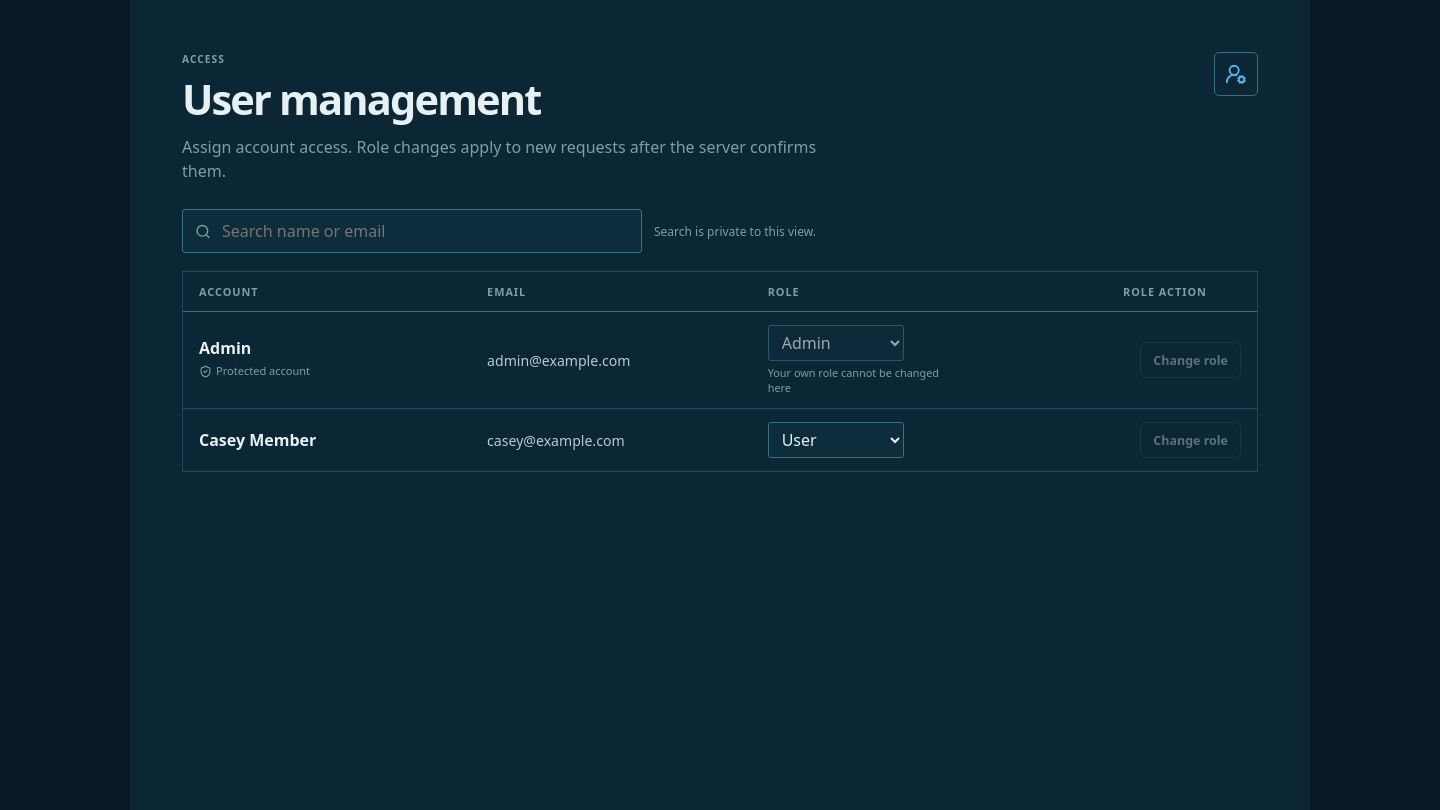
Test: UserManagementView › keeps a failed role change in the confirmation so it can be retried
Expected: the text "Casey Member" is shown, [199,429,316,451]
Select "Admin" in the dropdown named "Role for casey@example.com" at x=836, y=440, box [768,422,904,458]
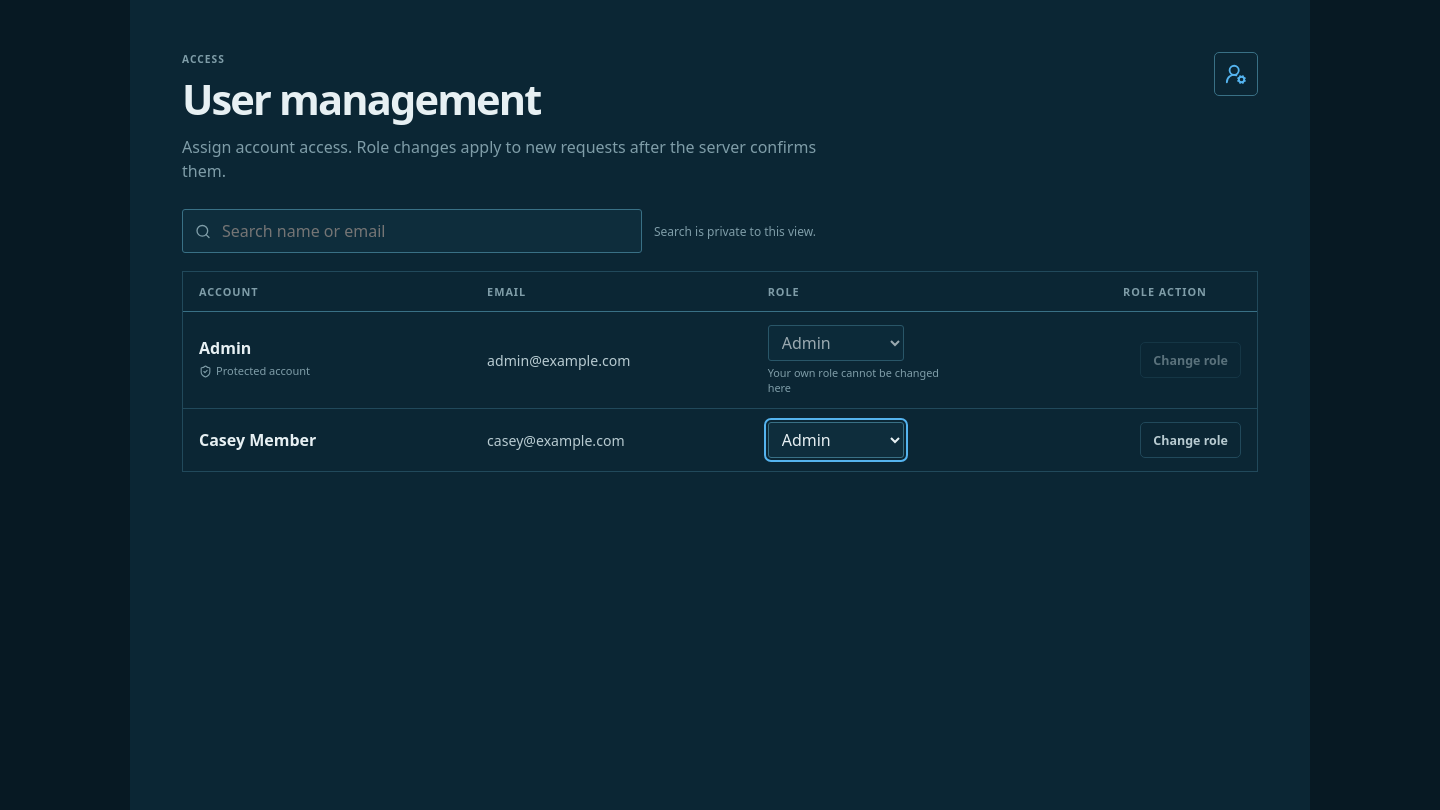
Click the button "Change role" in the row of "Casey Member" at x=1191, y=440, box [1140,422,1241,458]
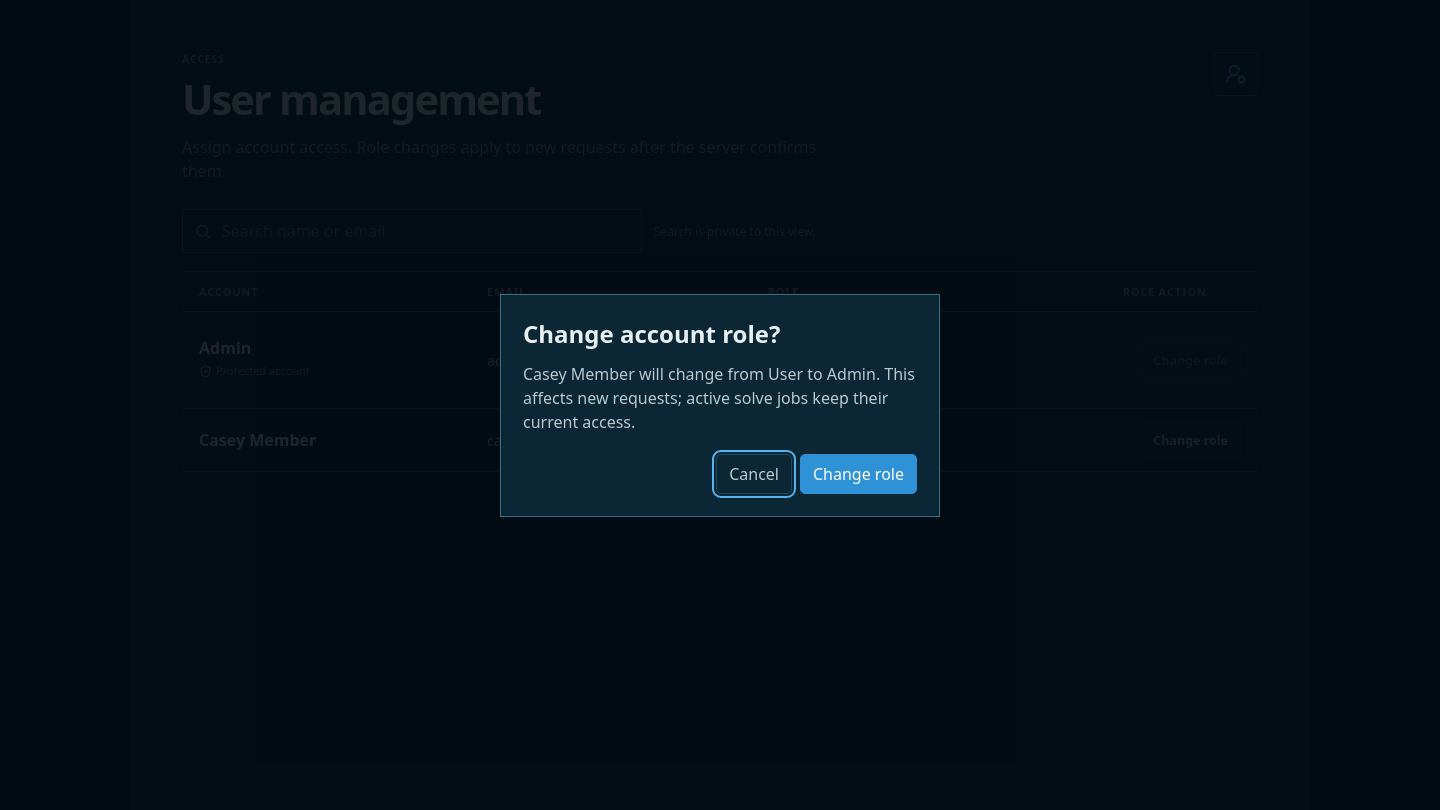
Click the button "Change role" at x=858, y=474, box [800,454,917,494]
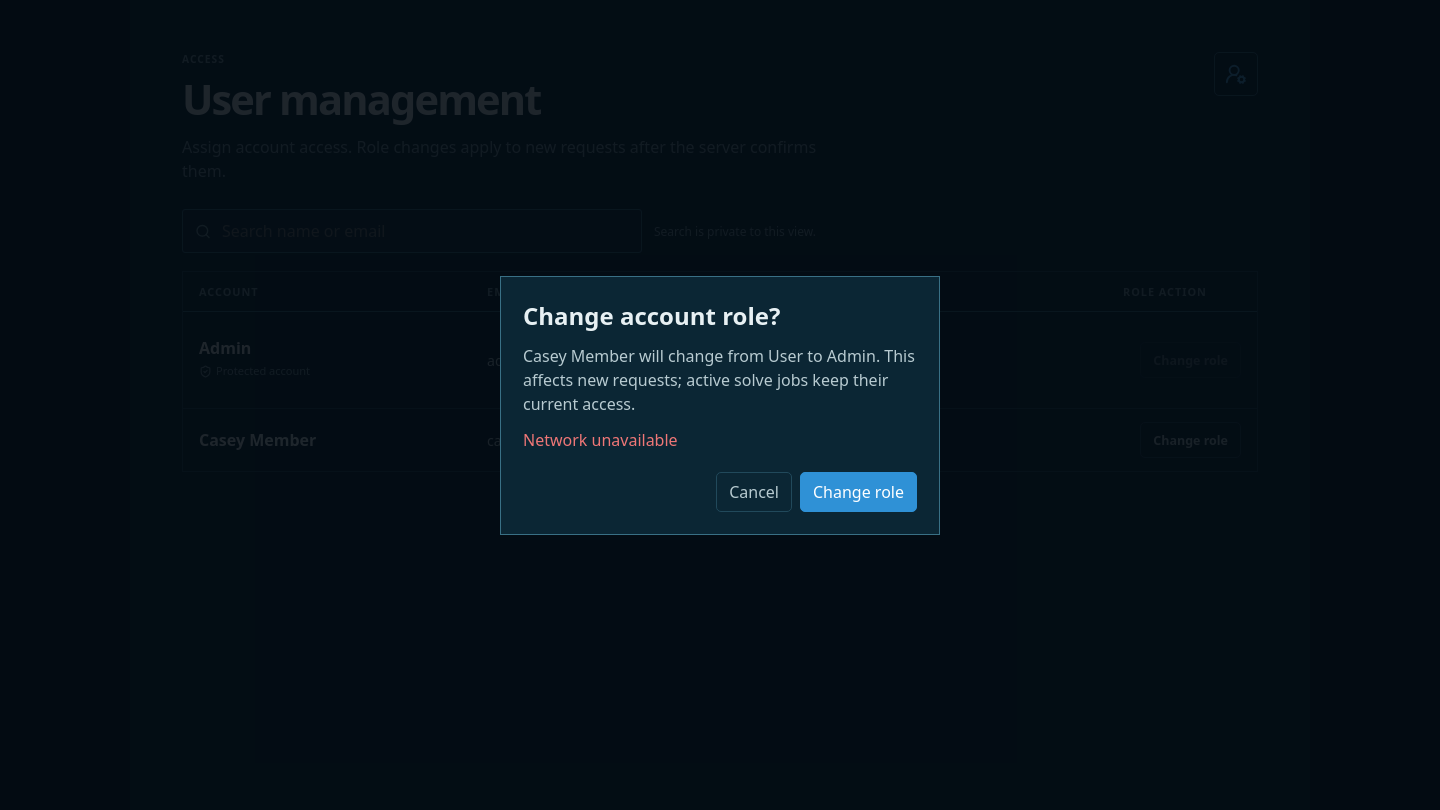
Now the dialog "Change account role?" is shown, box [500,276,940,534]
Now the message reads "Network unavailable", box [523,428,678,450]
Click the button "Change role" at x=858, y=492, box [800,472,917,512]
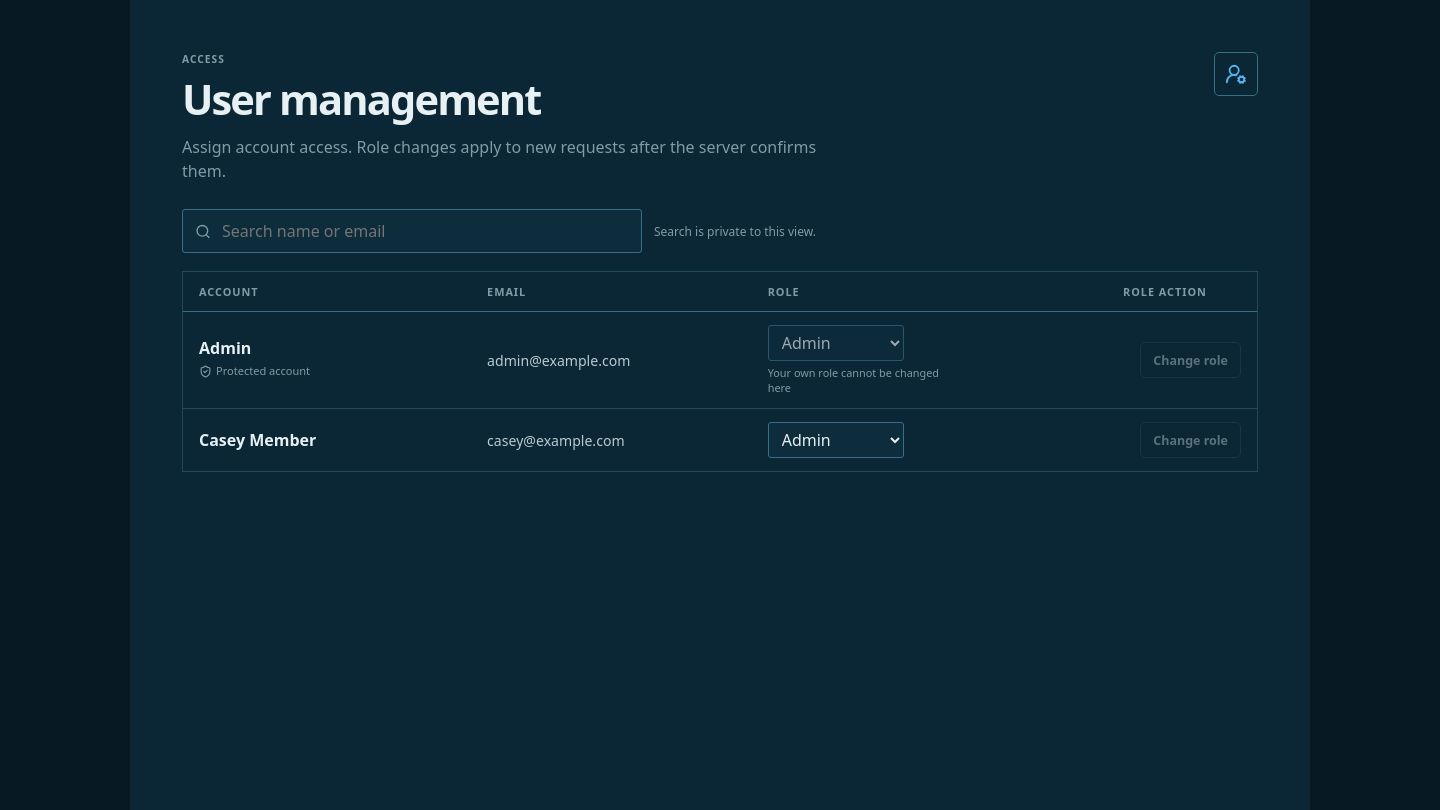
Now the dialog is gone
